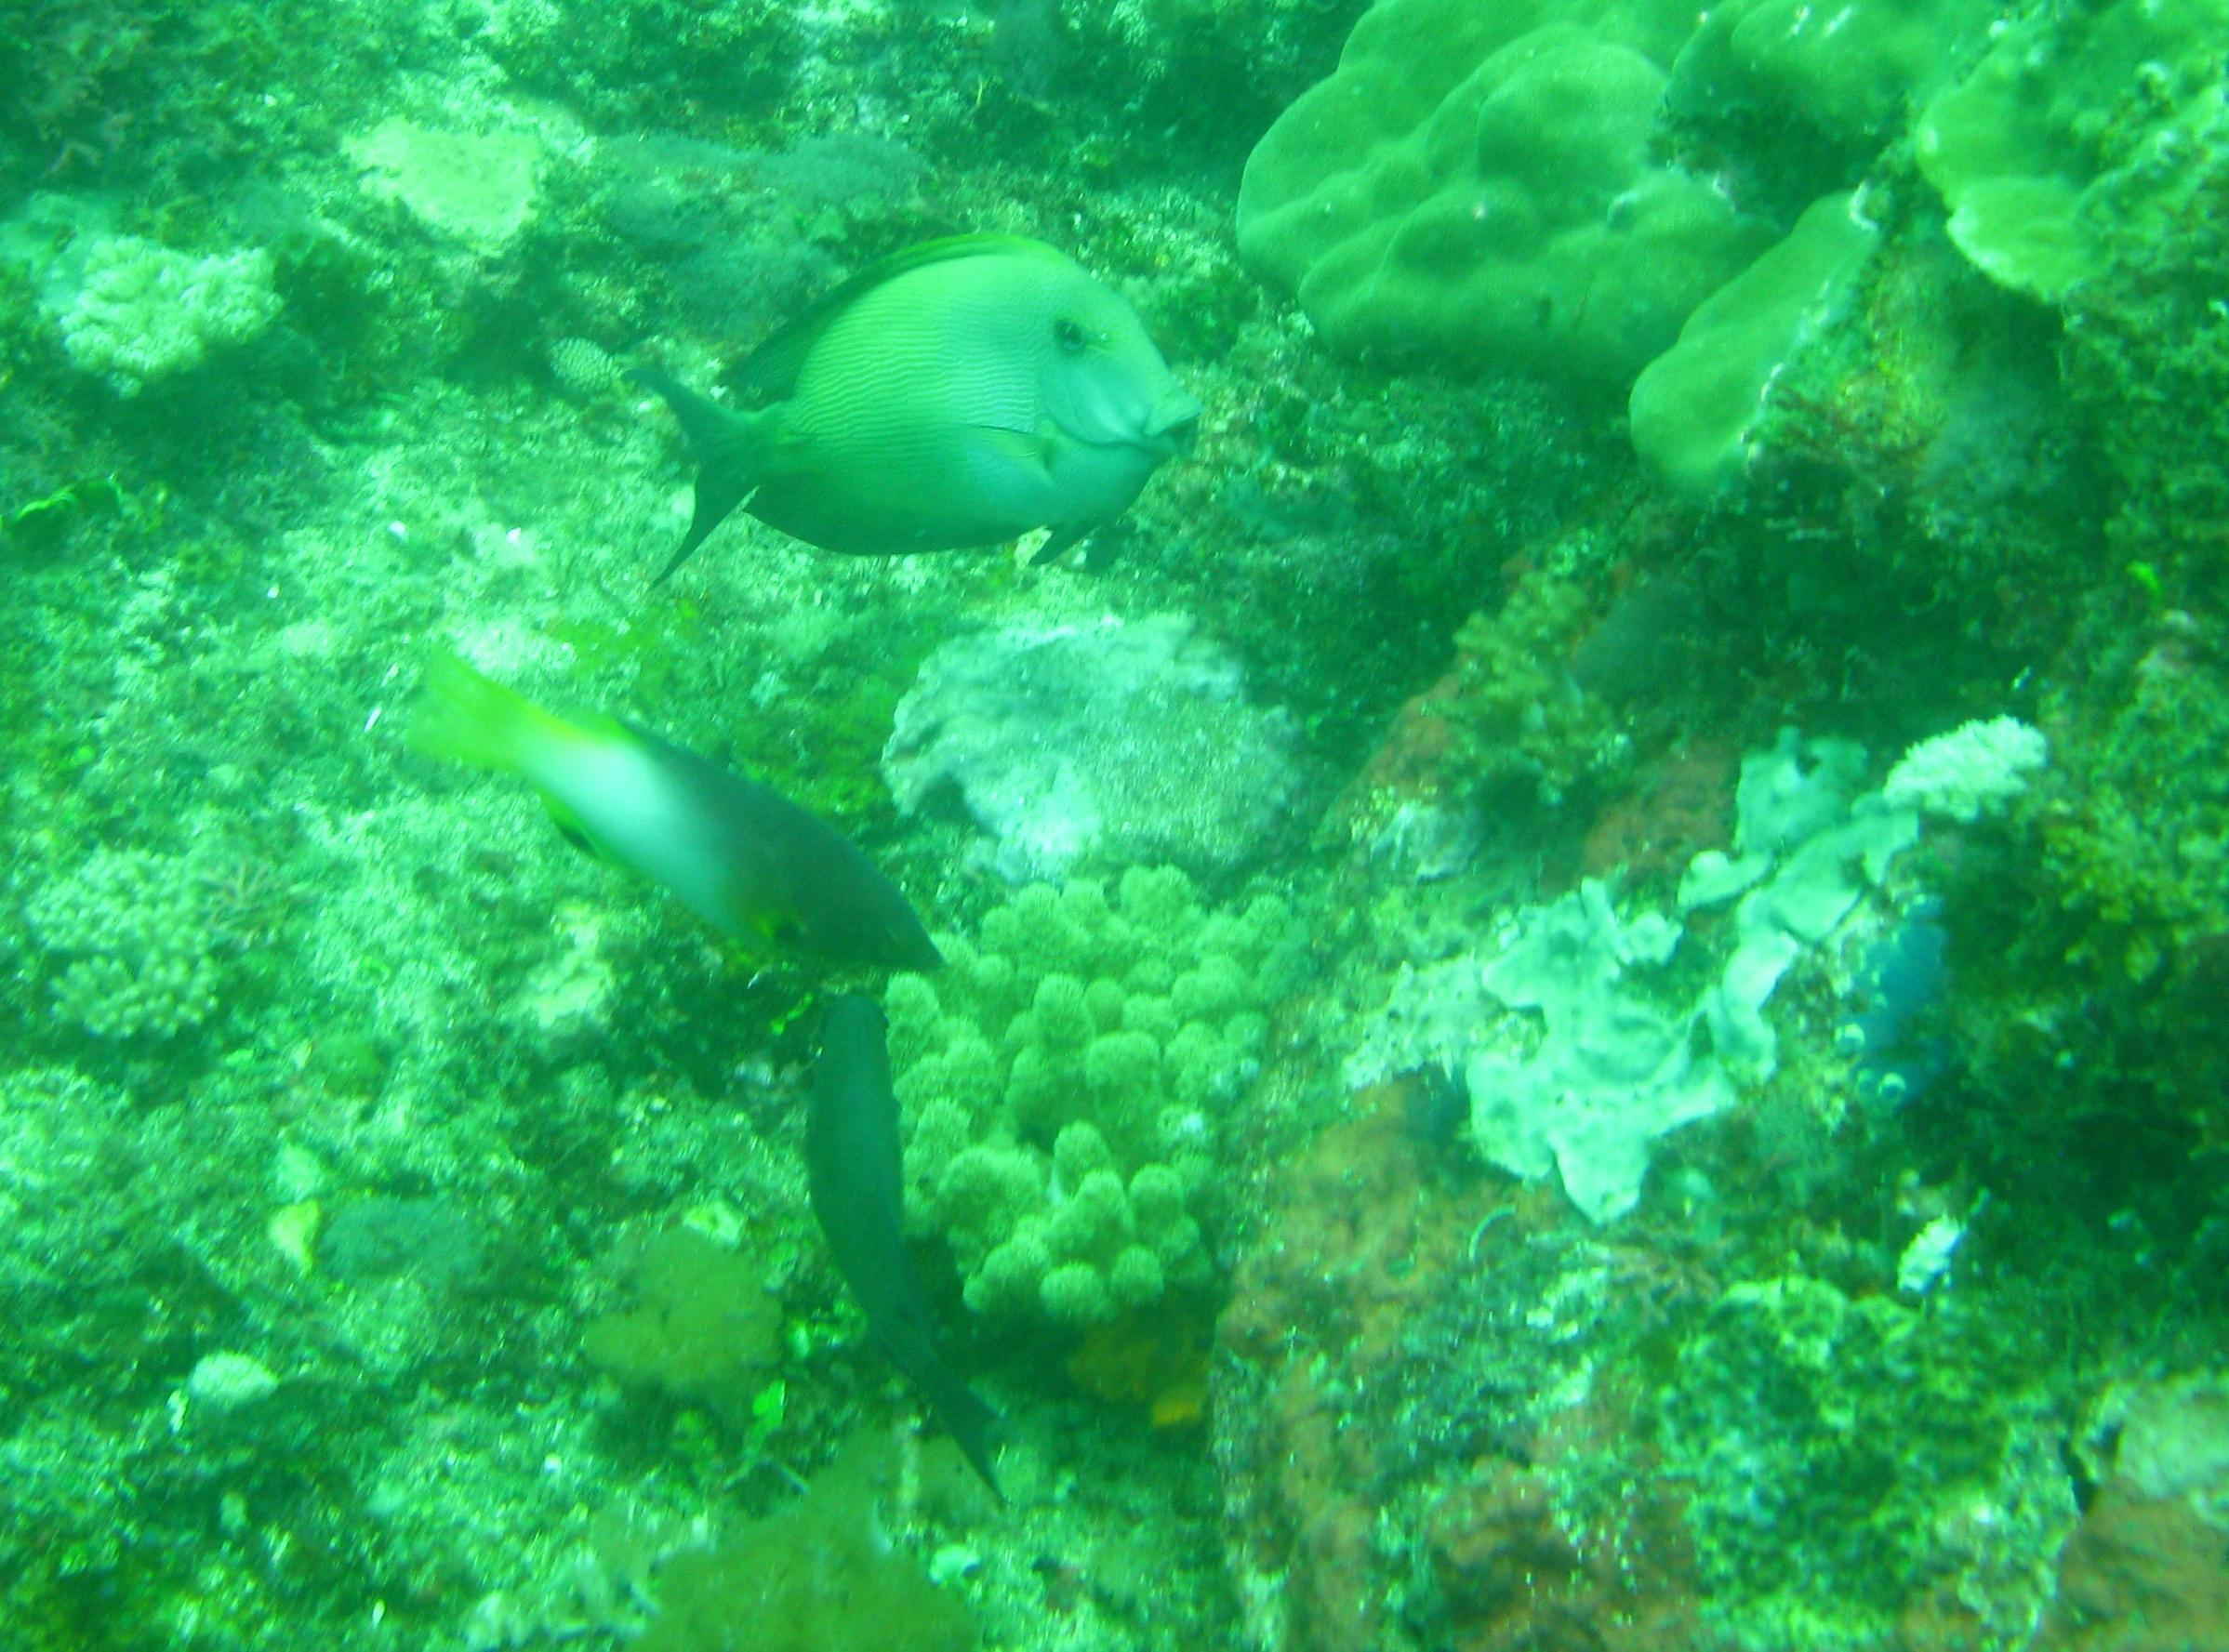Fish: (325, 609, 1033, 1003)
